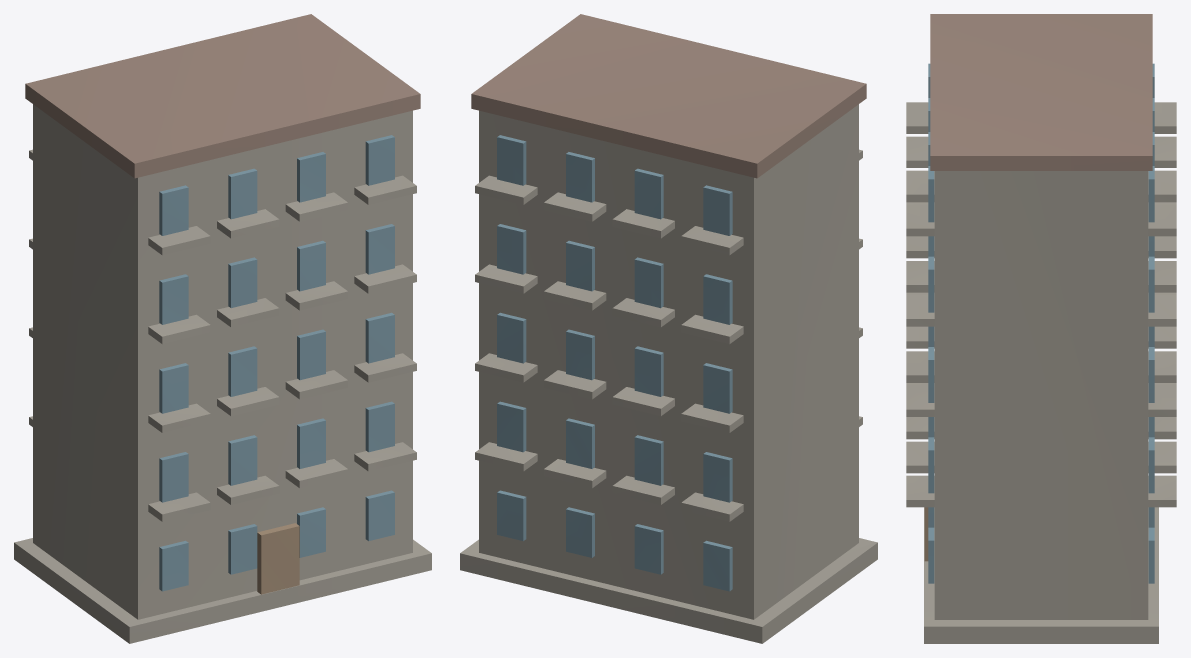
The model's file is apartment-02.glb.
3 views of the same model, side by side, from view 1: azimuth 30°, elevation 25°; view 2: azimuth 150°, elevation 25°; view 3: azimuth 270°, elevation 25° (orthographic).
Parts seen in each view (by area): view 1: world; view 2: world; view 3: world.
Boxes of the visible parts, x1,y1,x2,y2 form: world: [14, 14, 431, 643]; world: [460, 14, 877, 643]; world: [906, 14, 1176, 643].
Bounding box in the file's own units: 1.5 × 2.25 × 1.14.
